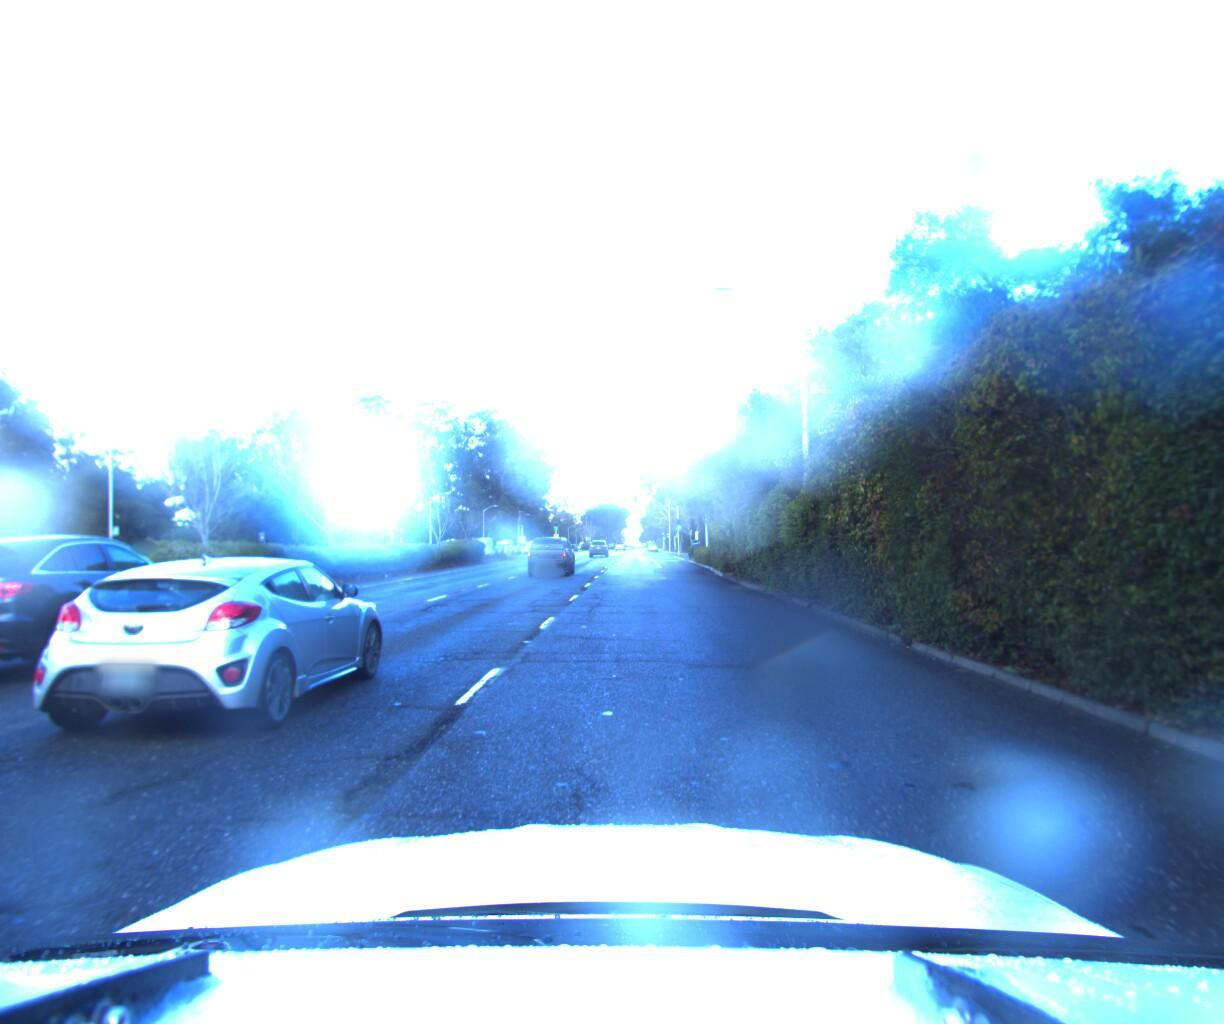car: (18, 552, 416, 752), (0, 531, 221, 695), (523, 534, 577, 576), (587, 536, 609, 554)
